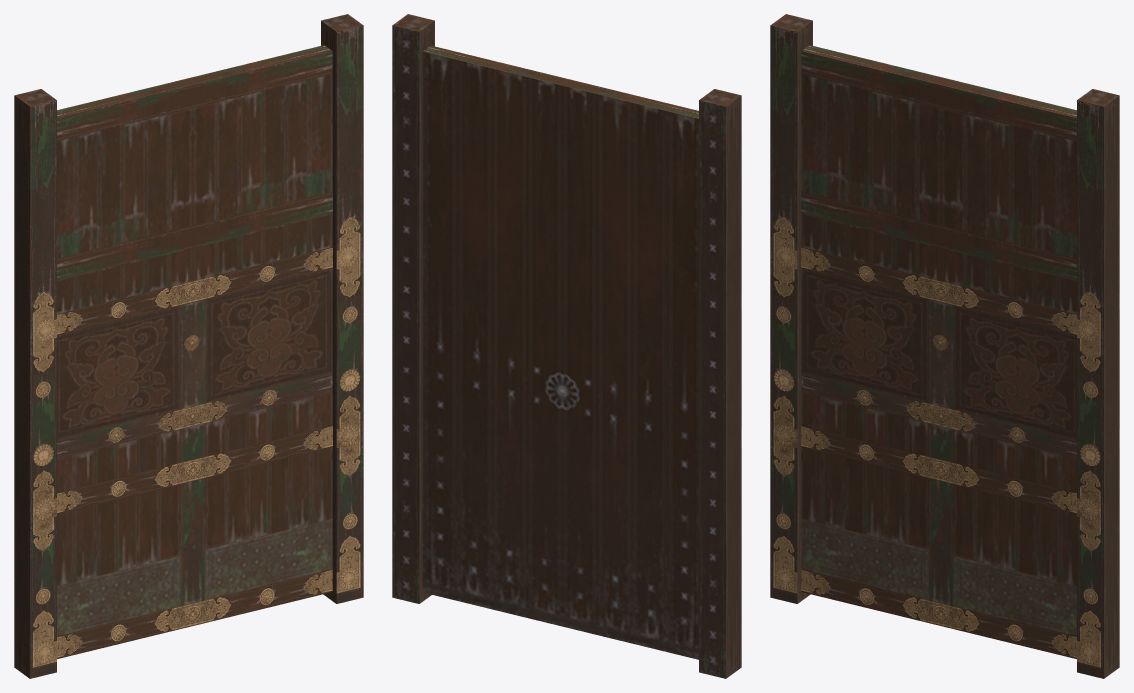
The model's file is b_zx_damen01_lod1.FBX.
The picture shows the model from 3 angles, left to right: view 1: azimuth 30°, elevation 25°; view 2: azimuth 150°, elevation 25°; view 3: azimuth 330°, elevation 25°; orthographic projection.
Visible parts, largest first — view 1: b_zx_damen01_lod1; view 2: b_zx_damen01_lod1; view 3: b_zx_damen01_lod1.
Boxes of the visible parts, left/top/right/bottom form: b_zx_damen01_lod1: left=14, top=14, right=363, bottom=678; b_zx_damen01_lod1: left=392, top=14, right=741, bottom=678; b_zx_damen01_lod1: left=770, top=14, right=1119, bottom=678.
Size of the model in its own units: 2.72 by 4.46 by 0.2197.
